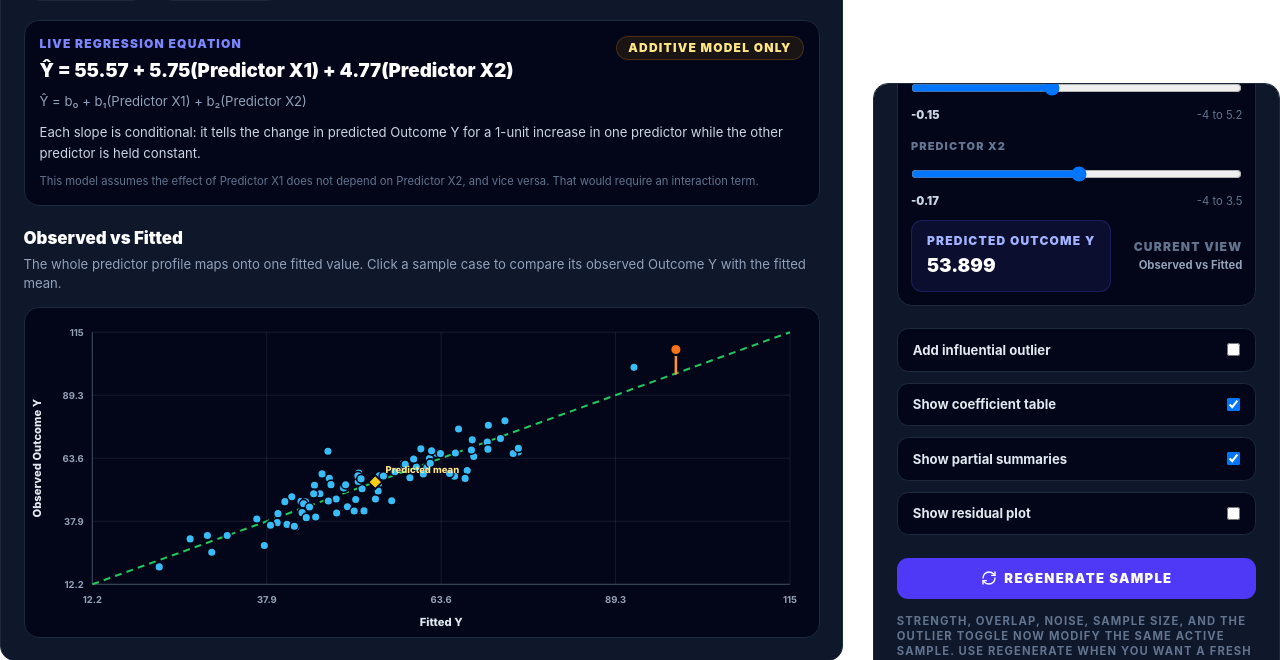
Scenario: switches lesson visualizations and regenerates the active sample
The width and height of the screenshot is (1280, 660).
(page scrolled)
Click the button "Regenerate Sample". click: (1077, 578)
box: [897,558,1256,599]
(page scrolled)
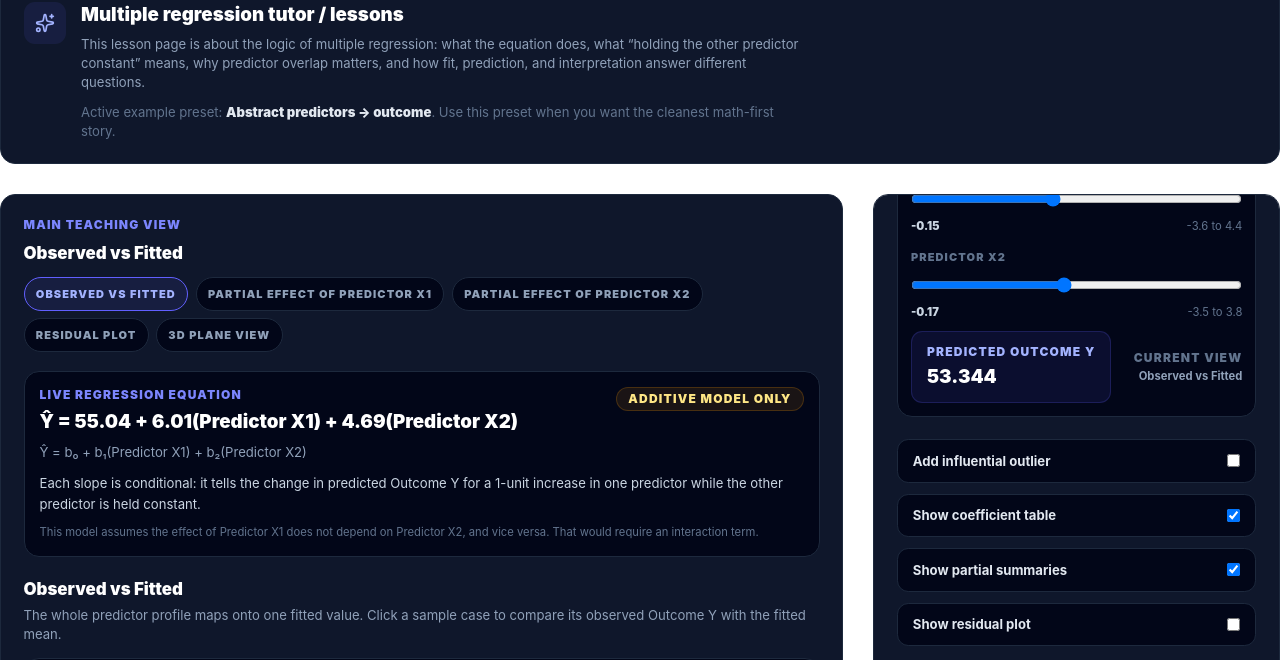
Click the button "3D Plane View". click: (219, 335)
box: [156,318,283,352]
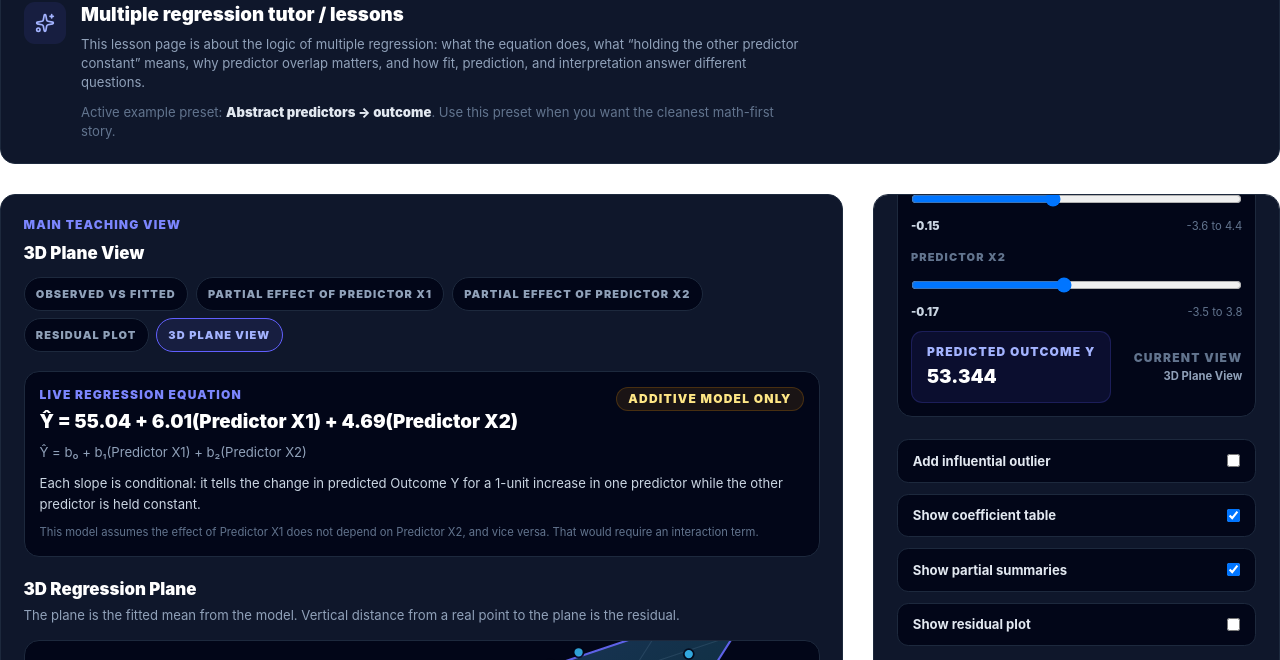
Now the text "3D Regression Plane" is shown, box [24,579,196,599]
Click the button "Partial Effect of Predictor X1". click: (320, 294)
box: [196,277,444,311]
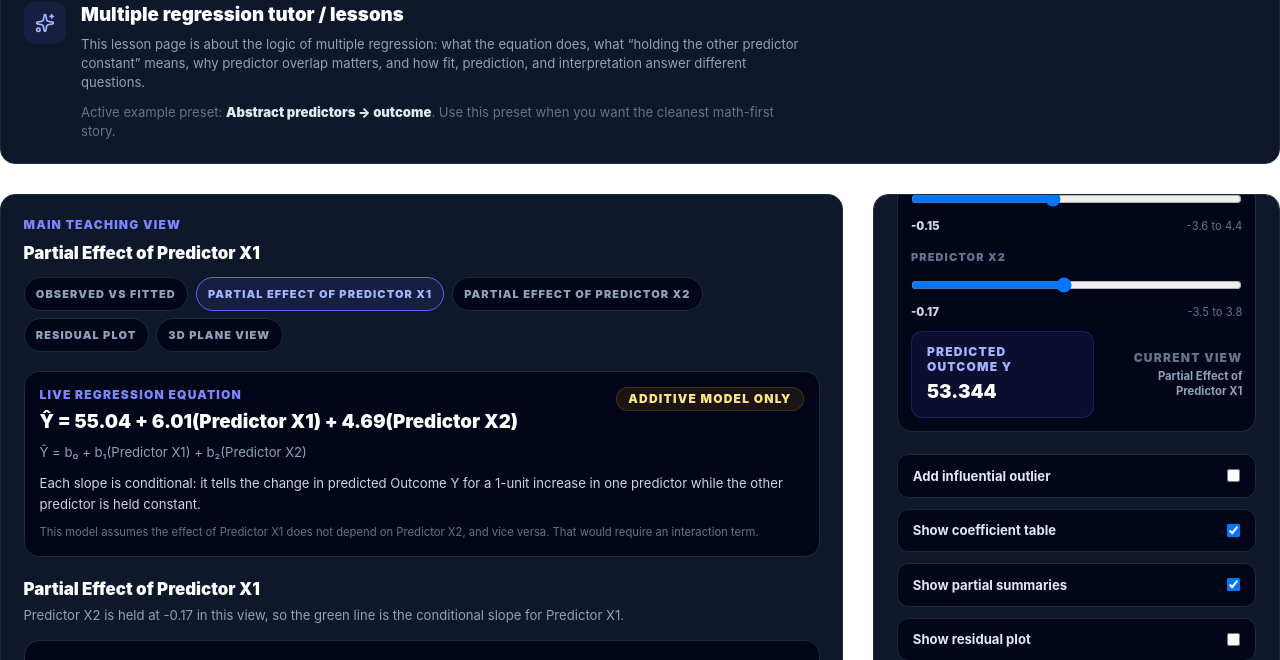
Now the text "conditional slope" is shown, box [24,607,624,623]
